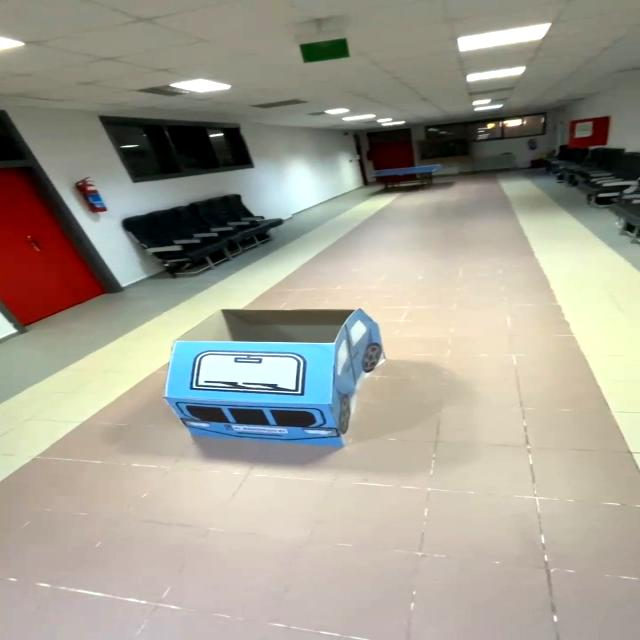blue_car: (142, 294, 420, 457)
